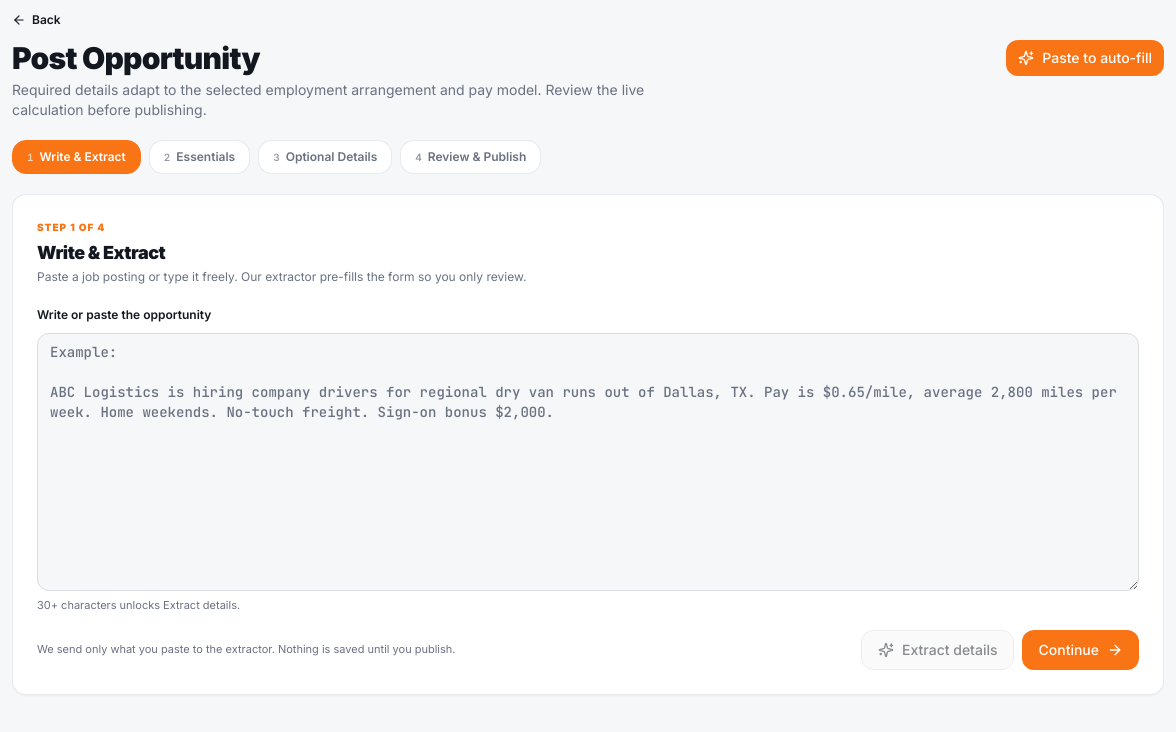
Test case: Phase 1O-A — four-stage authoring shell › Write & Extract exposes a free-text area and gates Extract details behind 30+ characters
expect the button "Extract details" is disabled: met, box [861,630,1014,670]
Replace the text in the text box named "Write or paste the opportunity" with "too short" at (588, 462), box [37,333,1139,591]
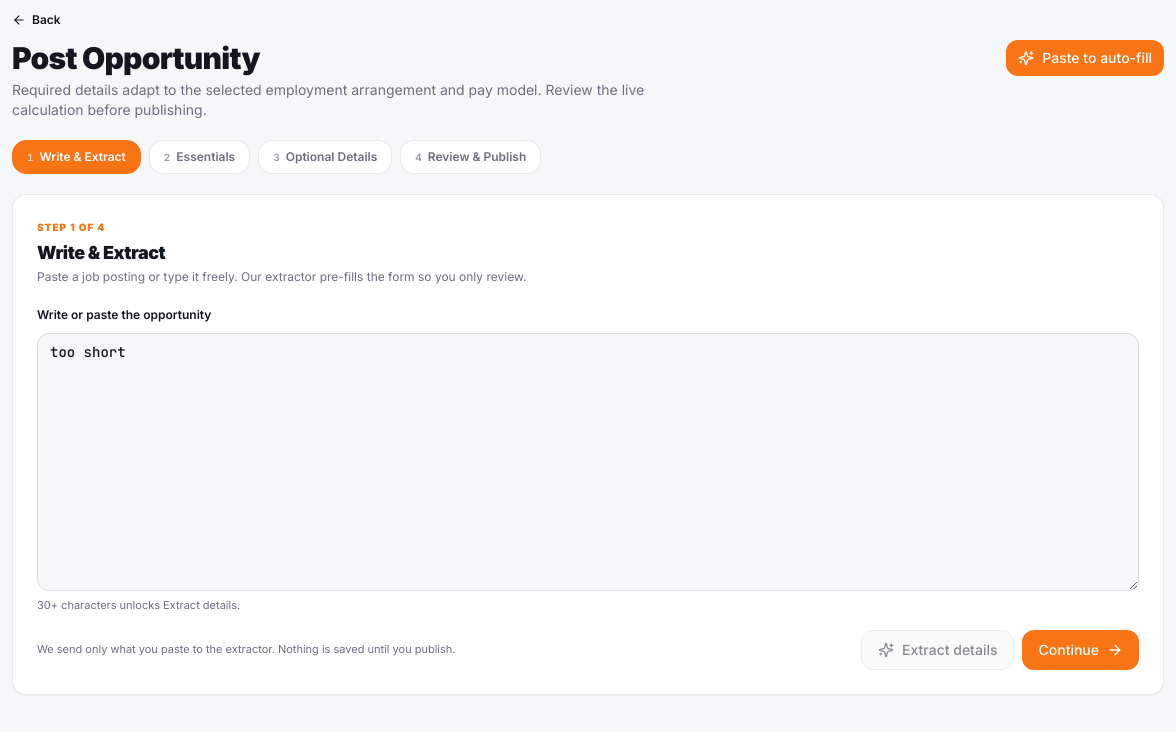
expect the button "Extract details" is disabled: met, box [861,630,1014,670]
Replace the text in the text box named "Write or paste the opportunity" with "This opportunity is a regional dry van run out of Dallas paying well." at (588, 462), box [37,333,1139,591]
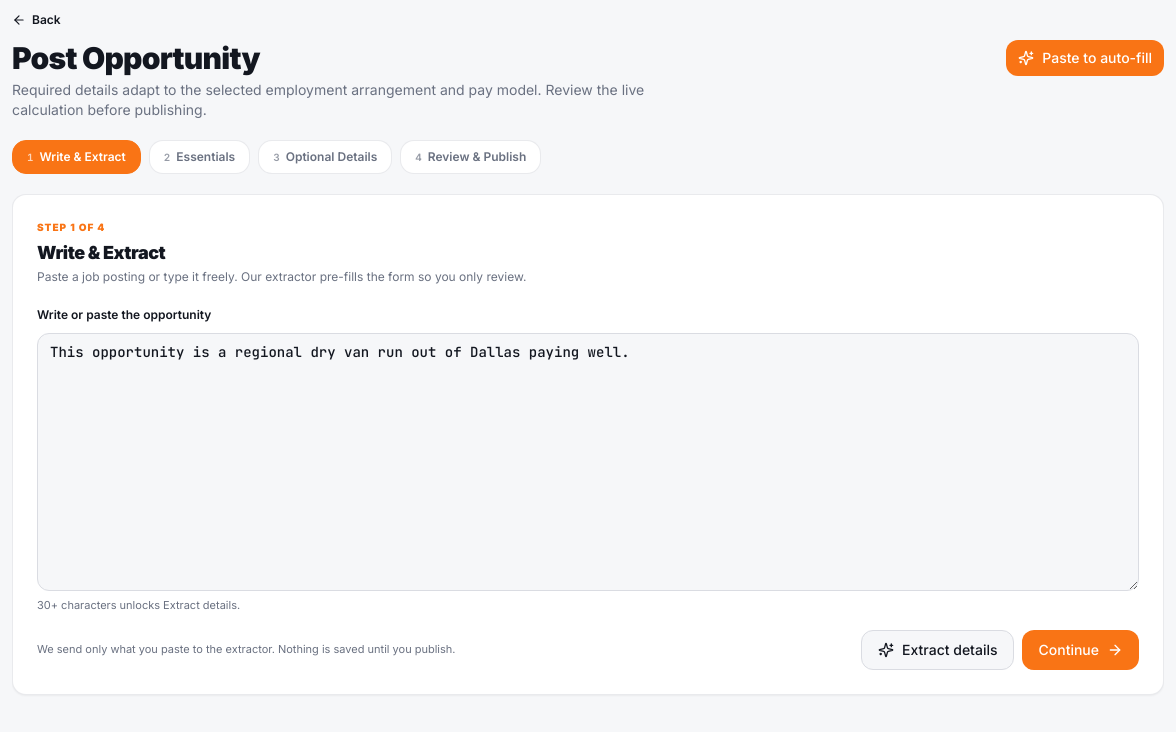
expect the button "Extract details" is enabled: met, box [861,630,1014,670]
